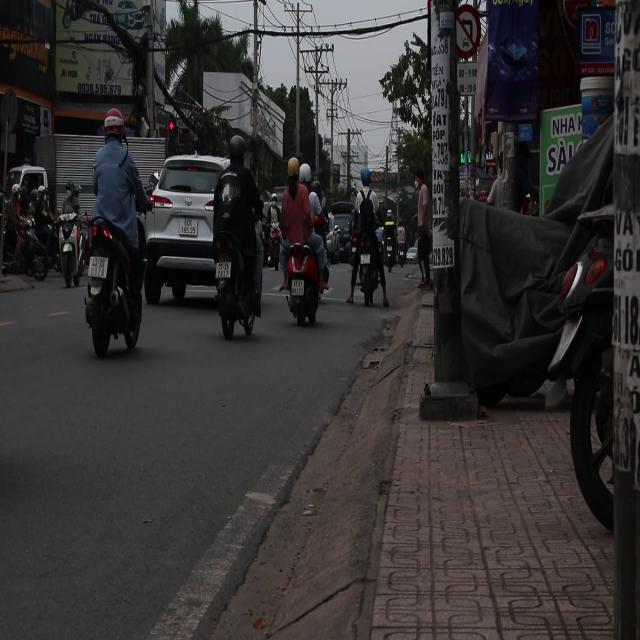car: (142, 154, 223, 309), (2, 165, 48, 209)
motorbike: (210, 140, 266, 336), (83, 213, 146, 358), (347, 174, 389, 309), (278, 244, 324, 322), (13, 214, 55, 282), (53, 212, 90, 288), (327, 205, 353, 265)
